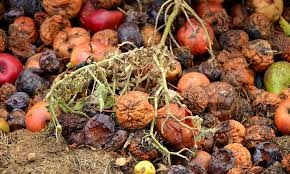kitchen_waste: (48, 43, 175, 130), (154, 101, 204, 149), (174, 15, 220, 61), (51, 24, 96, 71), (113, 87, 157, 132), (215, 47, 259, 89), (77, 1, 131, 31), (177, 70, 212, 113), (23, 99, 63, 135), (7, 14, 41, 53), (240, 36, 276, 70), (14, 67, 52, 98), (261, 60, 290, 98), (115, 20, 145, 56), (36, 48, 70, 78), (244, 10, 276, 41), (1, 51, 26, 88), (269, 98, 290, 136), (130, 158, 157, 174)
